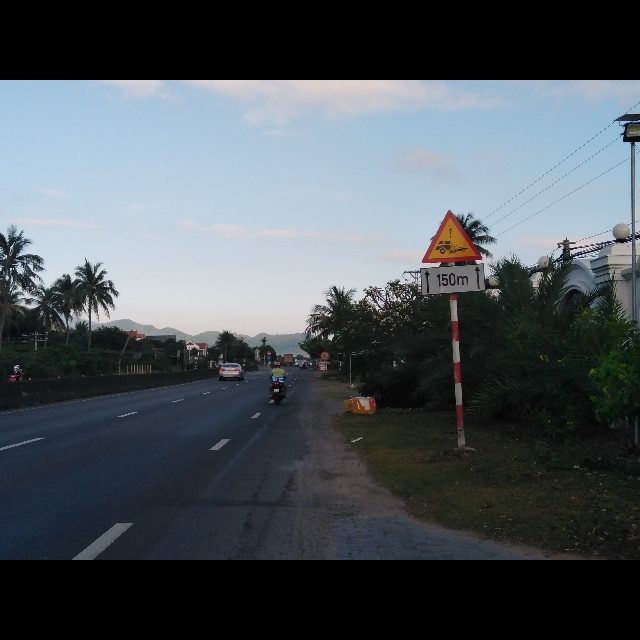Đoạn đường hay xảy ra tai nạn: (421, 210, 480, 261)
